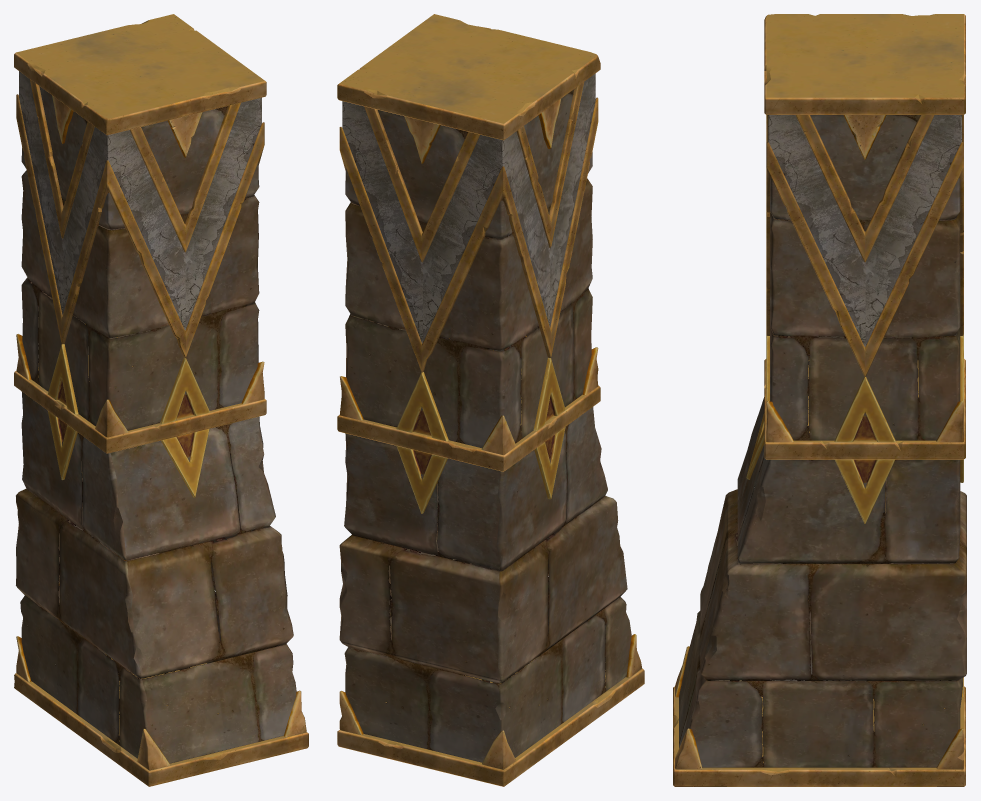
3 renders of one model, left to right at view 1: azimuth 30°, elevation 25°; view 2: azimuth 150°, elevation 25°; view 3: azimuth 270°, elevation 25°, orthographic. The views are drawn at different scales.
Visible parts, largest first — view 1: SM_Vault_8m_Column_01_V2_LOD0; view 2: SM_Vault_8m_Column_01_V2_LOD0; view 3: SM_Vault_8m_Column_01_V2_LOD0.
Boxes of the visible parts, x1,y1,x2,y2 form: SM_Vault_8m_Column_01_V2_LOD0: [14, 14, 308, 786]; SM_Vault_8m_Column_01_V2_LOD0: [337, 14, 644, 786]; SM_Vault_8m_Column_01_V2_LOD0: [673, 14, 966, 786].
Bounding box in the file's own units: 2.12 × 8 × 3.09.
Materials: 5 (5 with a texture image).
